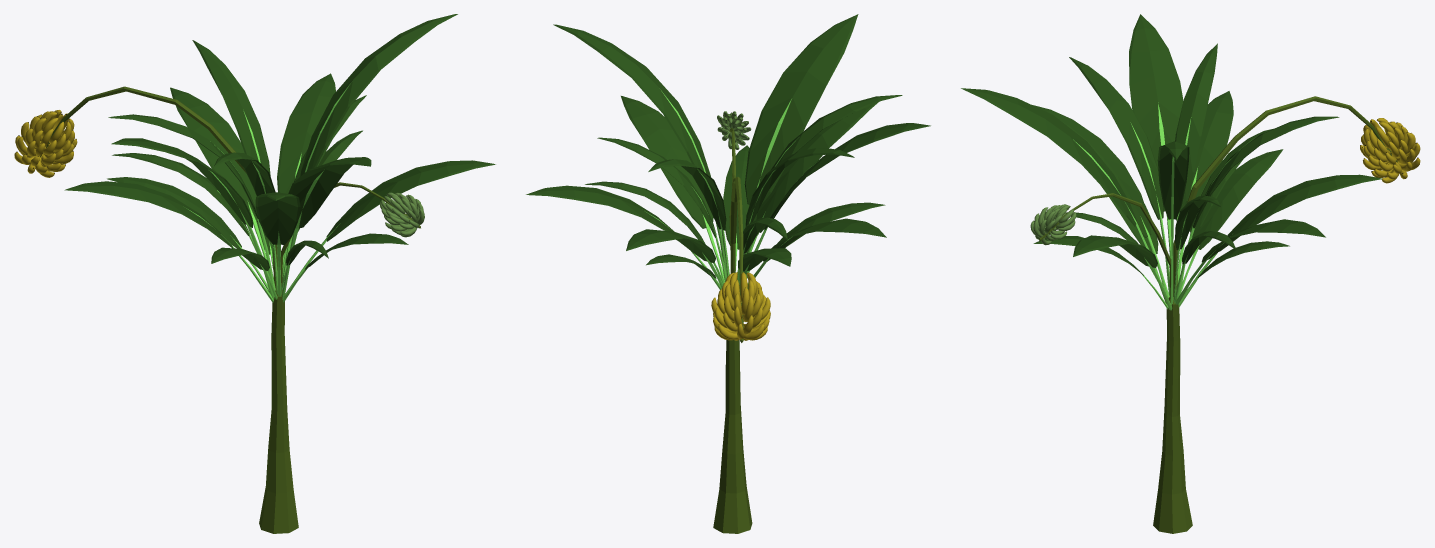
Rendered from SM_BananaTree_002_LOD2.fbx.
The picture shows the model from 3 angles, left to right: view 1: azimuth 30°, elevation 25°; view 2: azimuth 150°, elevation 25°; view 3: azimuth 270°, elevation 25°; orthographic projection. The views are drawn at different scales.
Visible parts, largest first — view 1: BananaTree; view 2: BananaTree; view 3: BananaTree.
Part boxes in pixels (x1,y1,x2,y2): BananaTree: (14, 14, 495, 533); BananaTree: (526, 14, 930, 533); BananaTree: (961, 14, 1420, 533).
Size of the model in its own units: 335 by 407 by 376.
